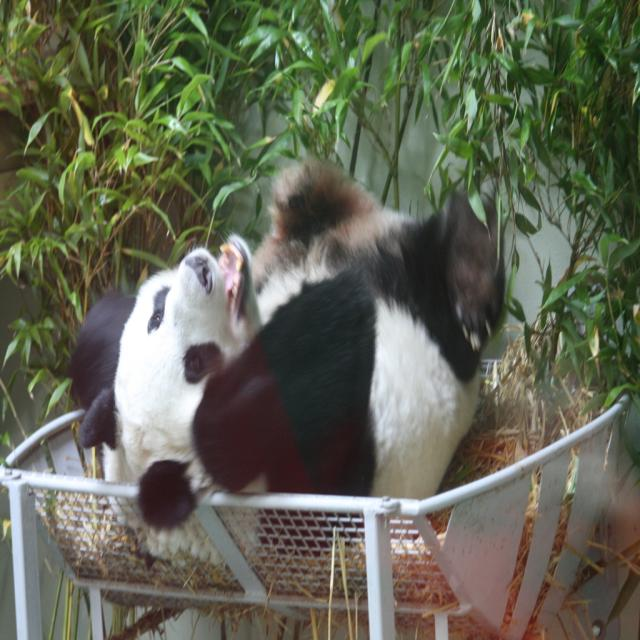panda: (64, 170, 510, 560)
